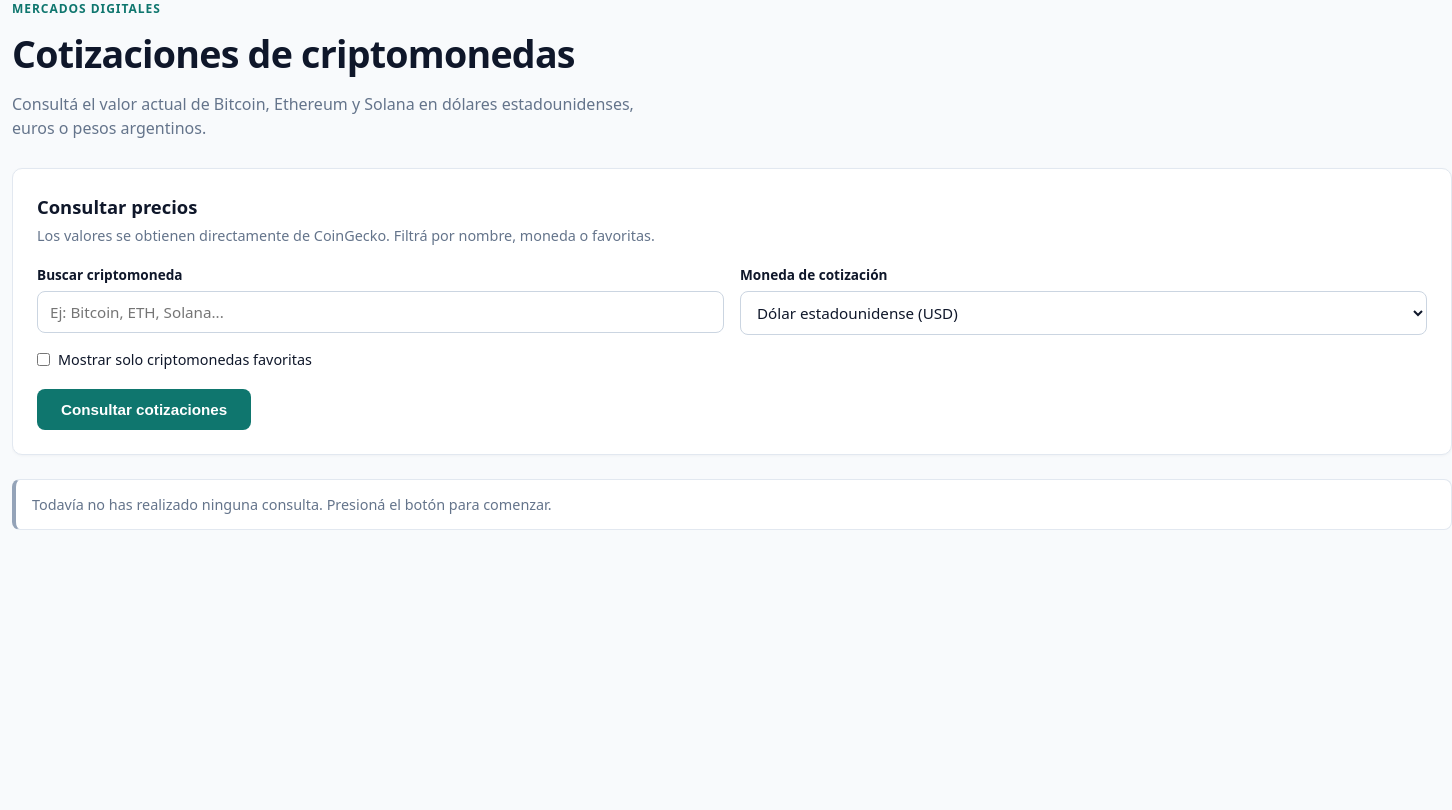
Scenario: HomePage - Consulta, carga, error y reintento › muestra las tarjetas de criptomonedas cuando la consulta es exitosa
Click the button "Consultar cotizaciones" at (144, 409), box [37,389,251,430]
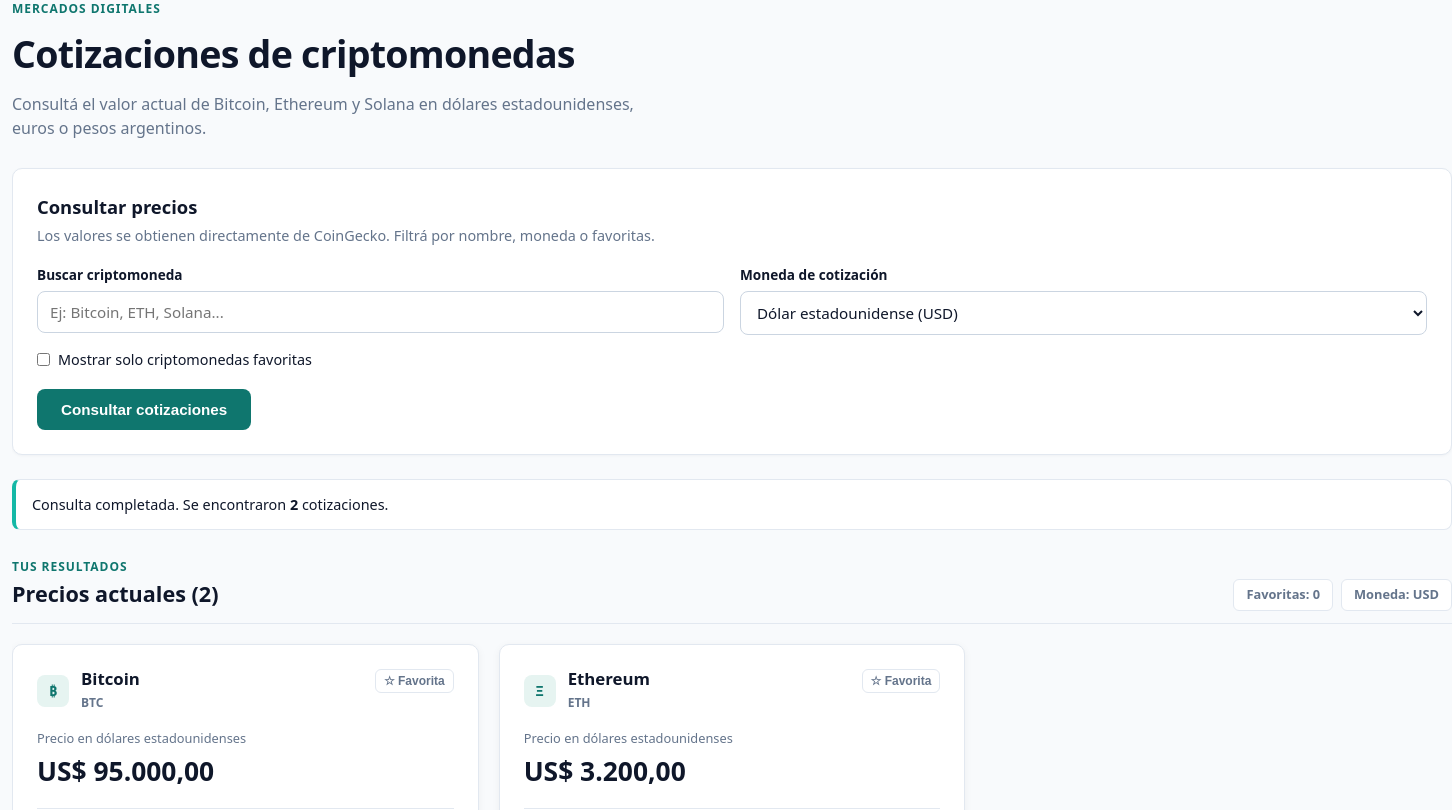
Result: the heading "Bitcoin" is shown at [81,669,140,689]
Result: the heading "Ethereum" is shown at [568,669,650,689]
Result: the text "Consulta completada. Se encontraron 2 cotizaciones." is shown at [32,495,388,514]
